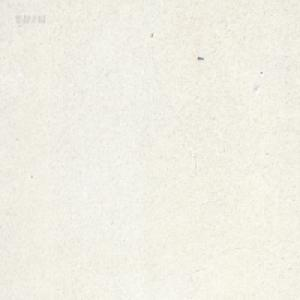Nail: (197, 55, 204, 60)
